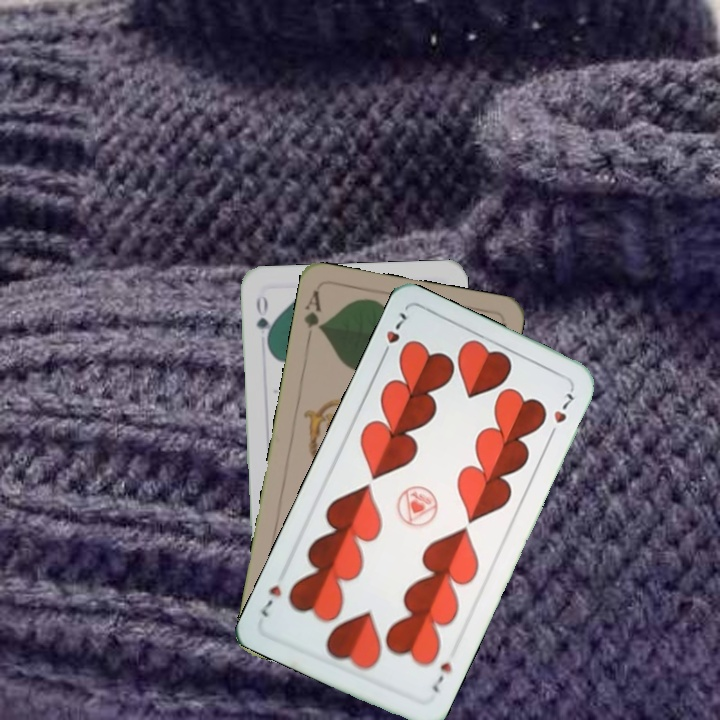GA: (299, 286, 326, 345)
GO: (252, 292, 275, 349)
H7: (377, 308, 409, 362), (427, 658, 455, 695)
